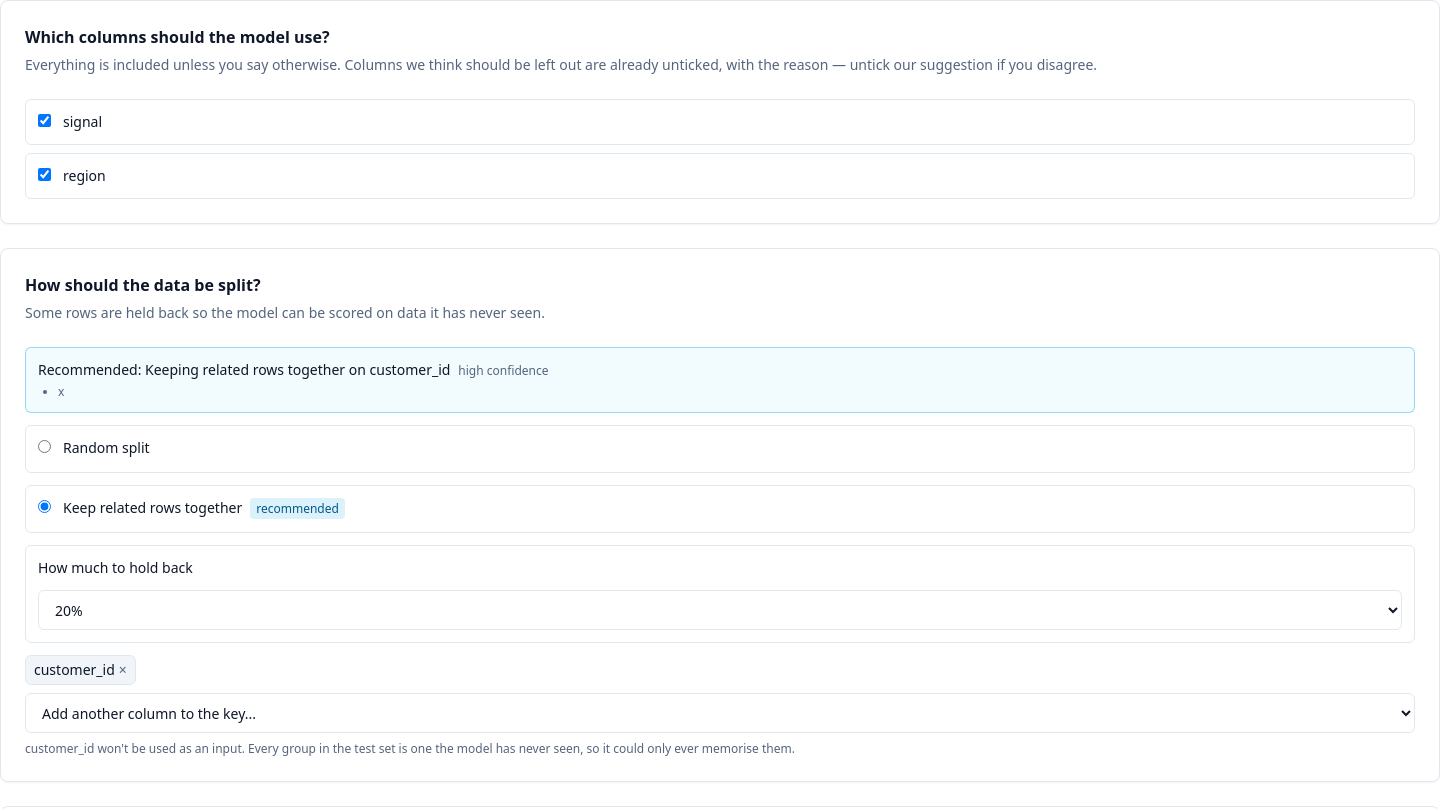
Test: ModelPlanForm — a group key of several columns (#22) › counts a key of several columns as departing from a single-column recommendation
Step 1. Select "store" in the dropdown named "Add a column to the group key" → (720, 713), box [25, 693, 1415, 733]
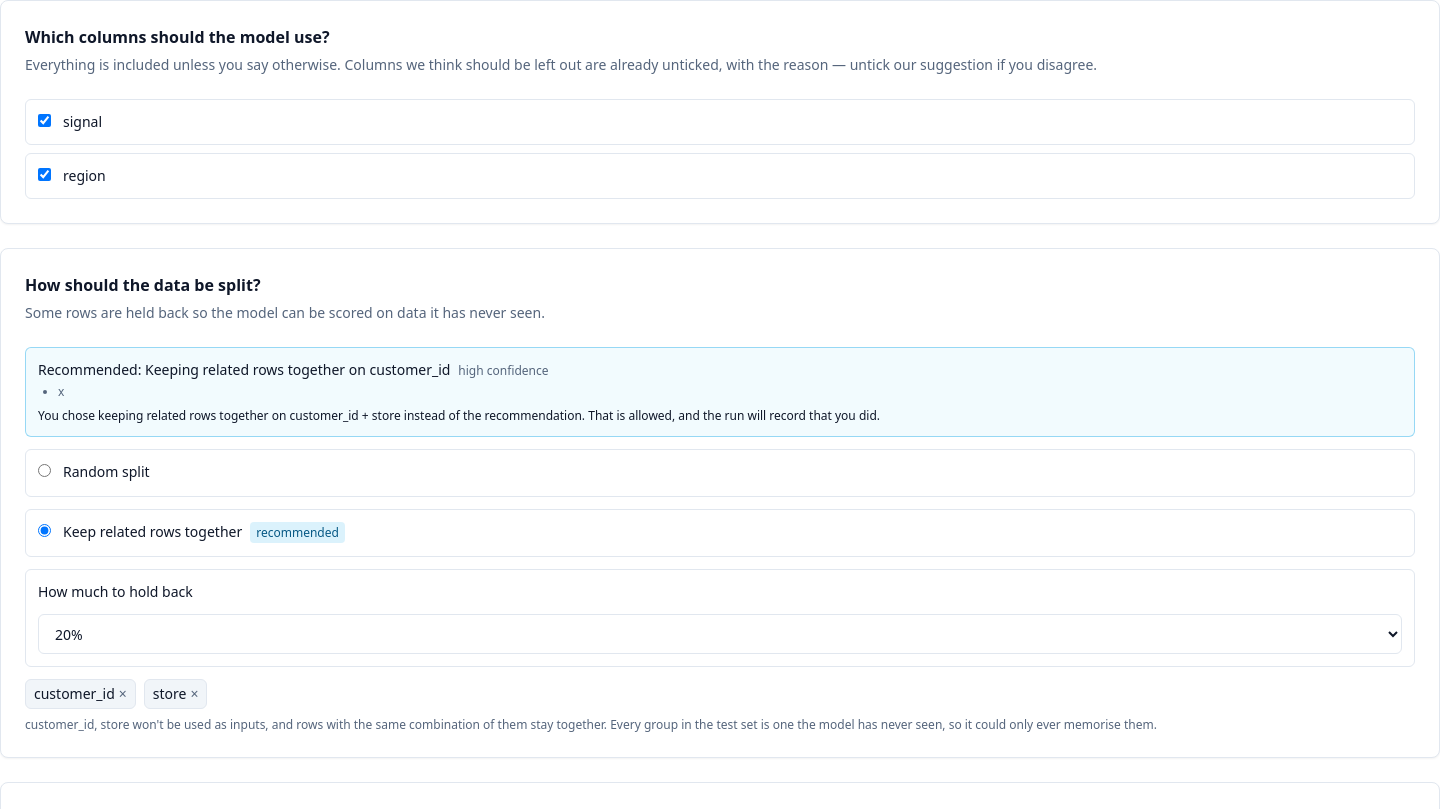
Expected: the element with test id "split-recommendation" shows "instead of the recommendation", [401, 407, 880, 424]
